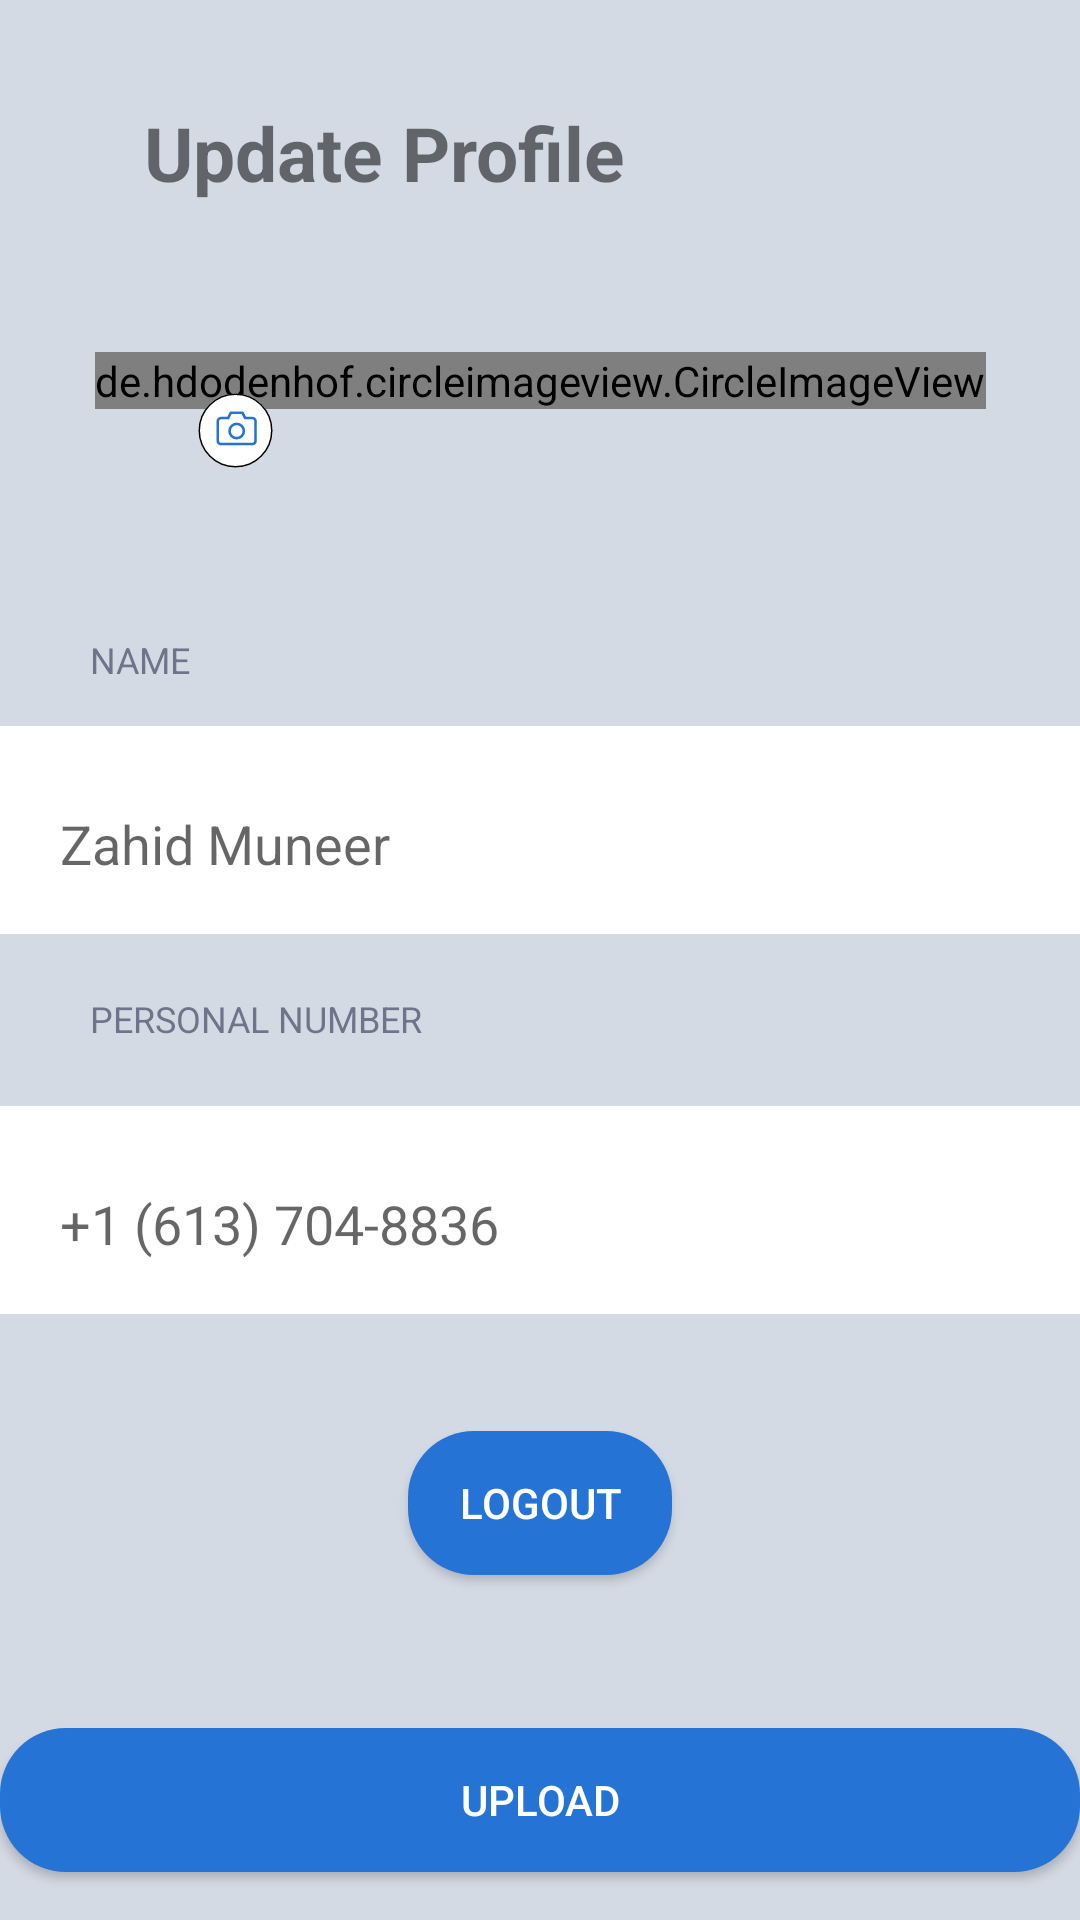

Screen size 1080px×1920px. Icon name, then its center in pixels as point (x, y):
click to choose image: point (235, 424)
